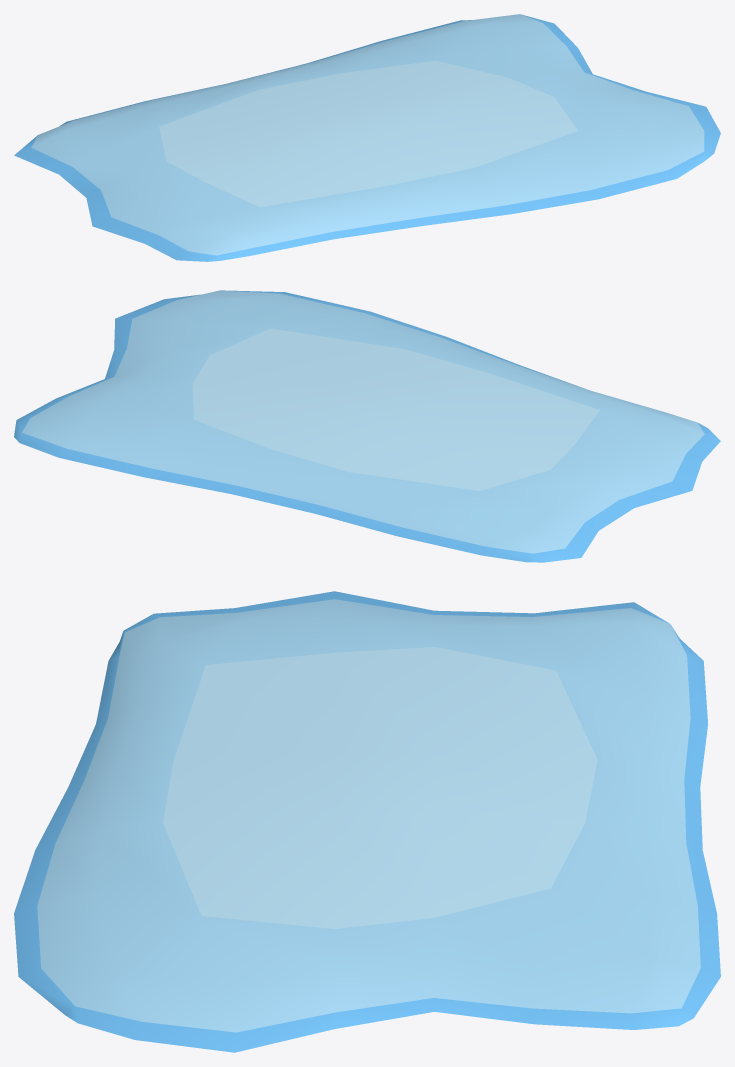
Rendered from Puddle_Water.fbx.
3 renders of one model, top to bottom at view 1: azimuth 30°, elevation 25°; view 2: azimuth 150°, elevation 25°; view 3: azimuth 270°, elevation 25°, orthographic. The views are drawn at different scales.
Visible parts, largest first — view 1: Water_Puddle; view 2: Water_Puddle; view 3: Water_Puddle.
Part boxes in pixels (x1,y1,x2,y2): Water_Puddle: [14, 14, 720, 261]; Water_Puddle: [14, 290, 720, 562]; Water_Puddle: [14, 591, 720, 1052].
Bounding box in the file's own units: 224 × 9.49 × 145.
